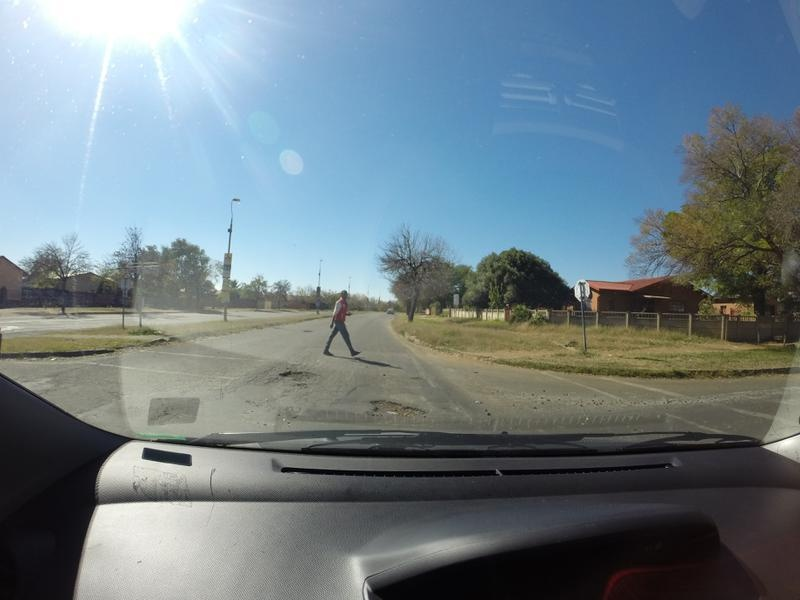pothole: (365, 400, 426, 416), (277, 371, 317, 379), (291, 383, 307, 388)
